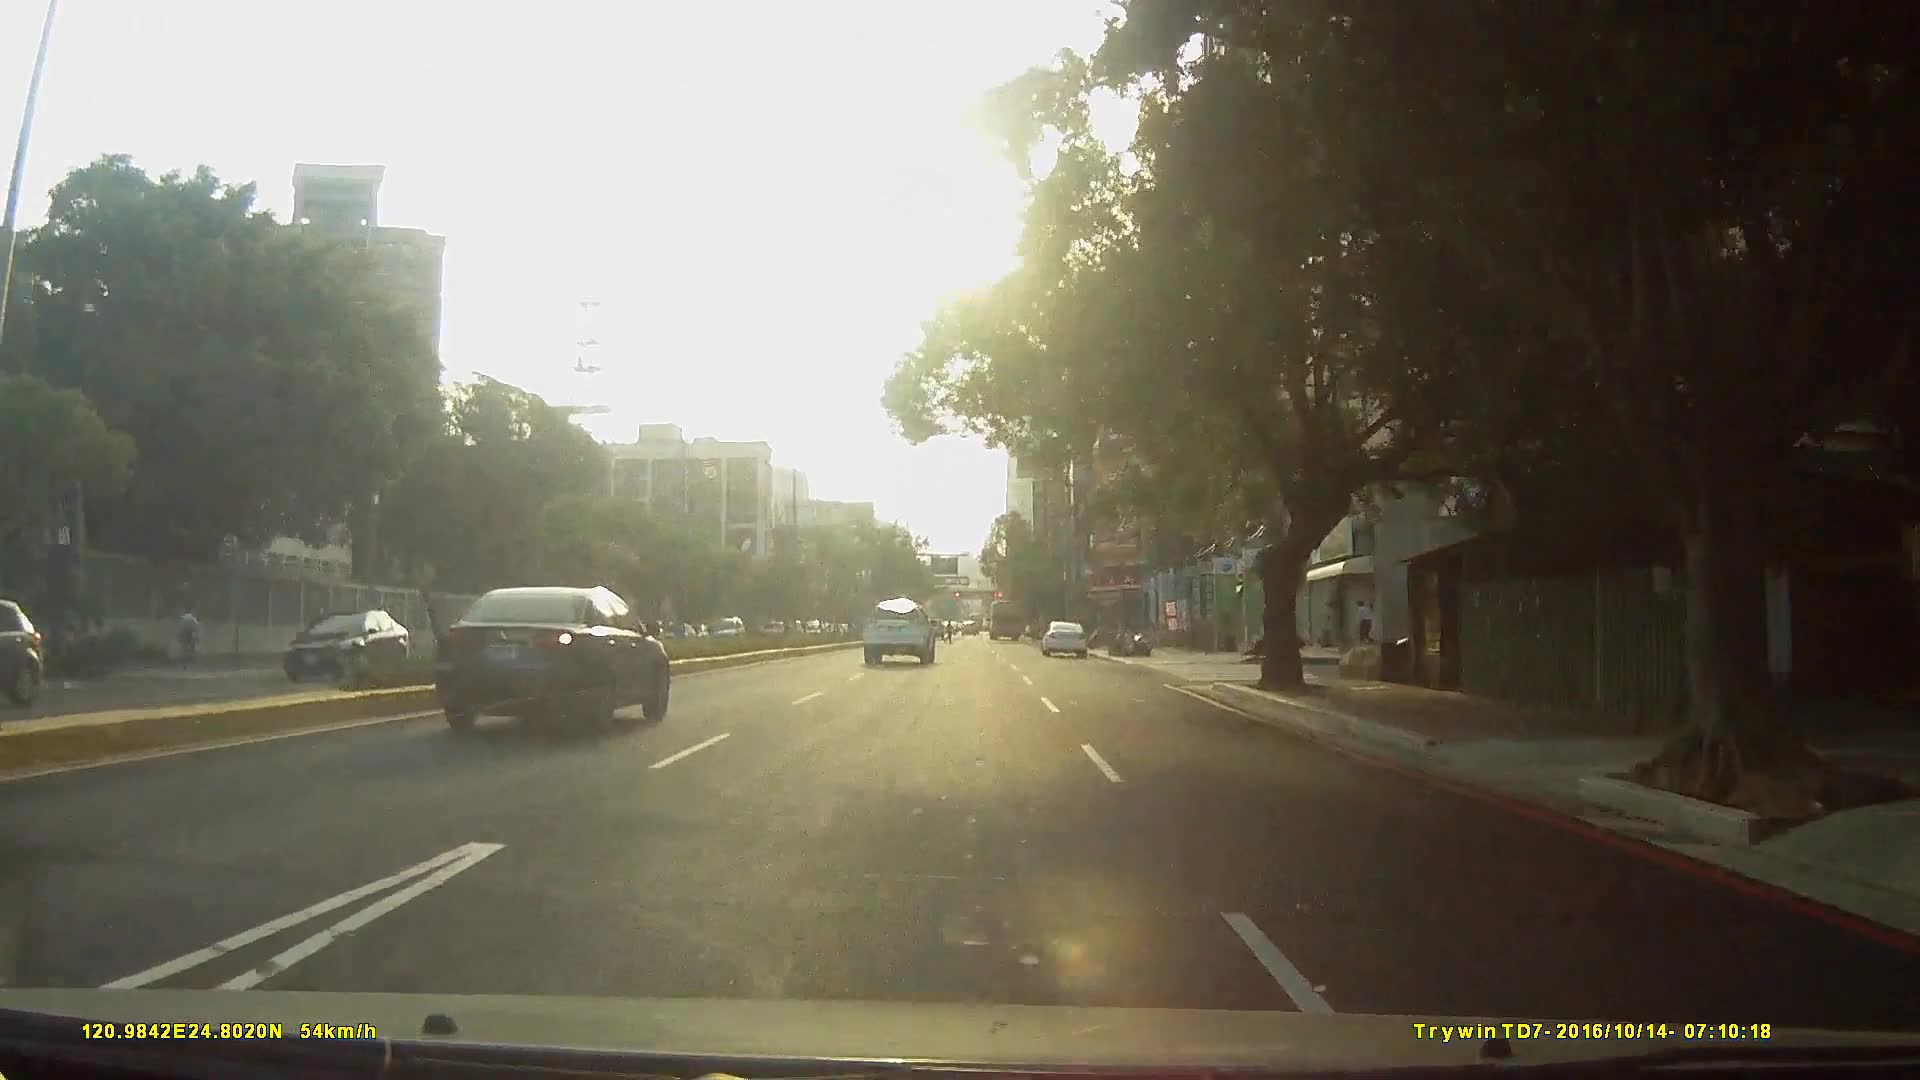pedestrian: (173, 608, 201, 667), (1354, 601, 1374, 649)
vehicle: (435, 582, 672, 738), (272, 610, 420, 687), (860, 596, 937, 666), (1, 596, 47, 714), (1039, 618, 1088, 659), (986, 594, 1026, 639)
